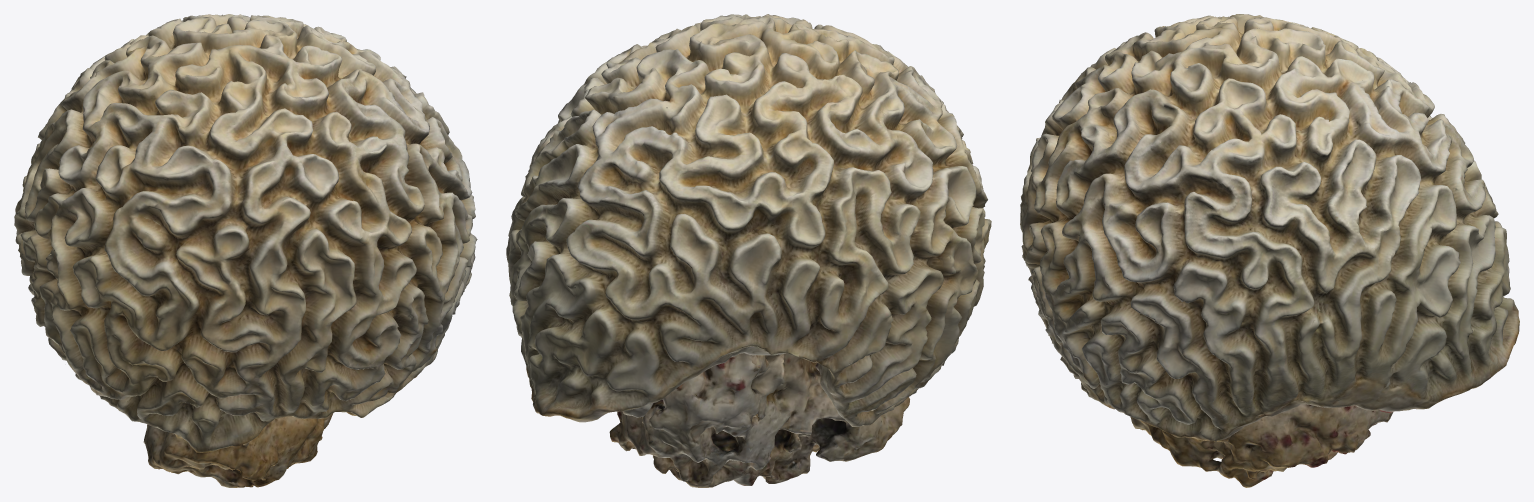
Rendered from diploria_labyrinthiformis_usnm_74947_100k_2048.glb.
3 renders of one model, left to right at view 1: azimuth 30°, elevation 25°; view 2: azimuth 150°, elevation 25°; view 3: azimuth 270°, elevation 25°, orthographic. The views are drawn at different scales.
Size of the model in its own units: 0.1001 by 0.1004 by 0.1077.
1 material, 1 textured.
